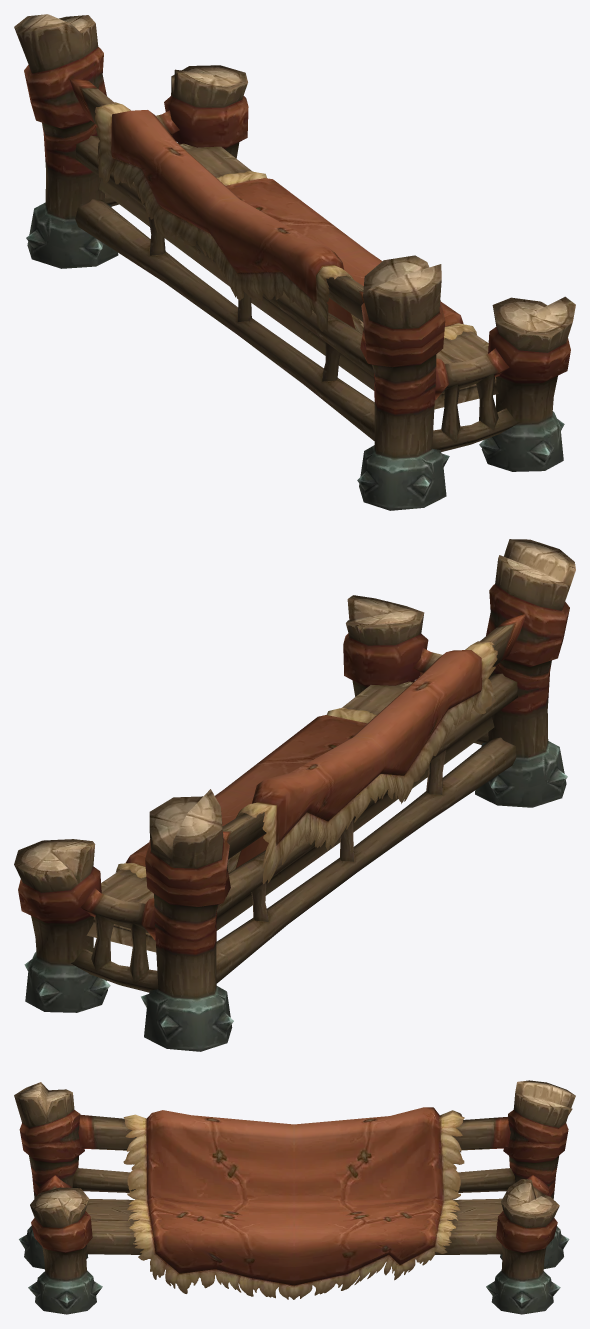
The picture shows the model from 3 angles, top to bottom: view 1: azimuth 30°, elevation 25°; view 2: azimuth 150°, elevation 25°; view 3: azimuth 270°, elevation 25°; orthographic projection. The views are drawn at different scales.
Bounding box in the file's own units: 1.16 × 1.21 × 3.6.
2 materials, 2 textured.
